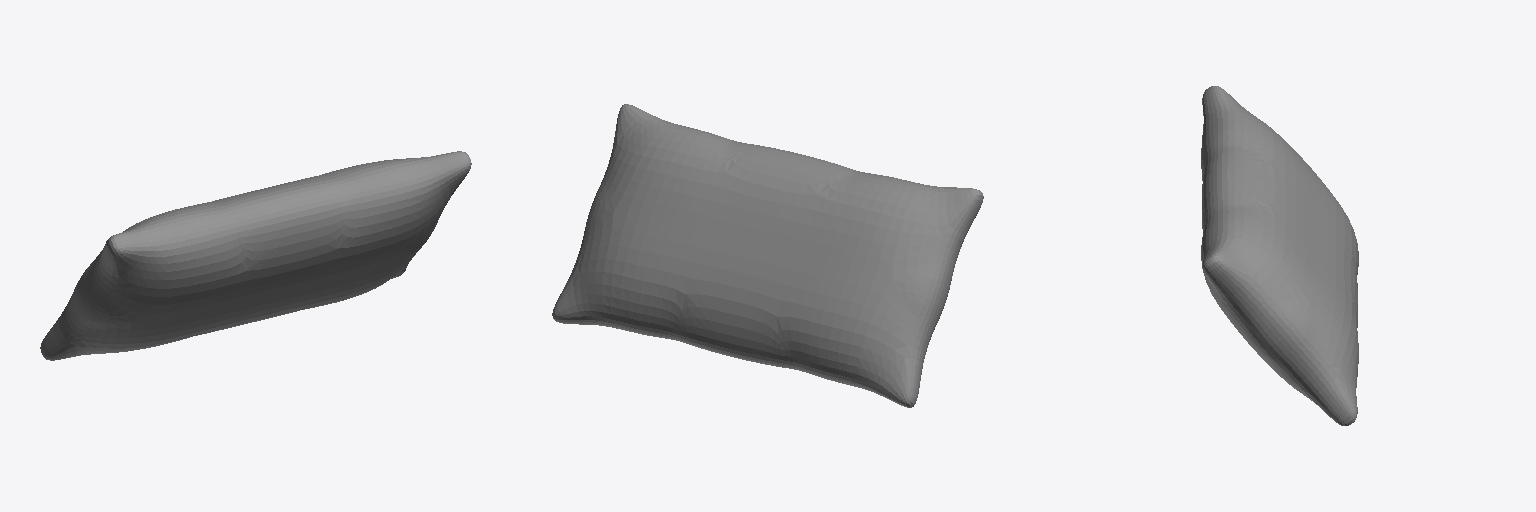
Rendered from pillow.obj.
3 renders of one model, left to right at view 1: azimuth 30°, elevation 25°; view 2: azimuth 150°, elevation 25°; view 3: azimuth 270°, elevation 25°, orthographic.
Visible parts, largest first — view 1: 10217_Bed_Pillow_v1_Iterations-2.001; view 2: 10217_Bed_Pillow_v1_Iterations-2.001; view 3: 10217_Bed_Pillow_v1_Iterations-2.001.
Part boxes in pixels (x1,y1,x2,y2): 10217_Bed_Pillow_v1_Iterations-2.001: (40,151,471,360); 10217_Bed_Pillow_v1_Iterations-2.001: (552,104,983,407); 10217_Bed_Pillow_v1_Iterations-2.001: (1201,86,1358,425).
Size of the model in its own units: 0.8931 by 0.4054 by 0.3397.